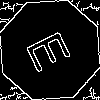E: (25, 25, 81, 74)
